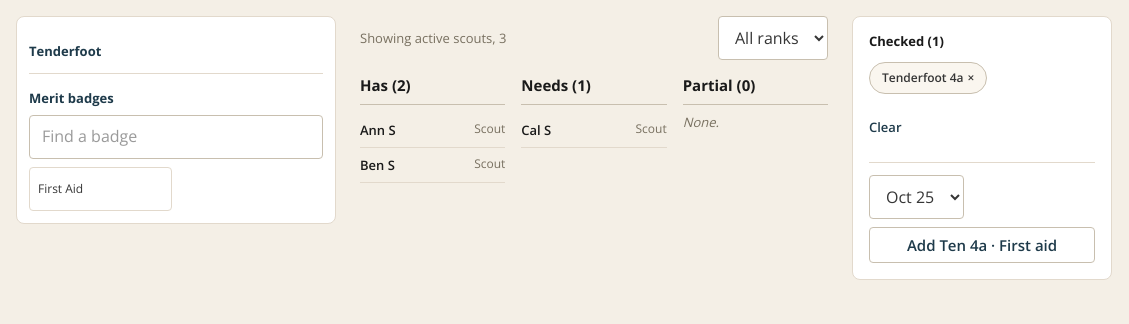
Test: the Has/Needs tab (B7) › HasNeeds_AddFails_SaysWhyInPlace
Click the button with aria-label "Add Ten 4a · First aid to the Oct 25 plan" at (982, 245), box [869,227,1095,263]
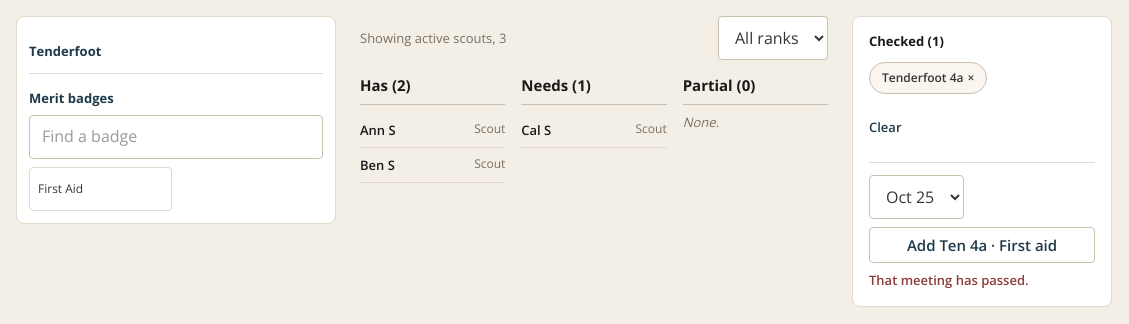
expect the message reads "That meeting has passed.": met, box [869,271,1029,289]
